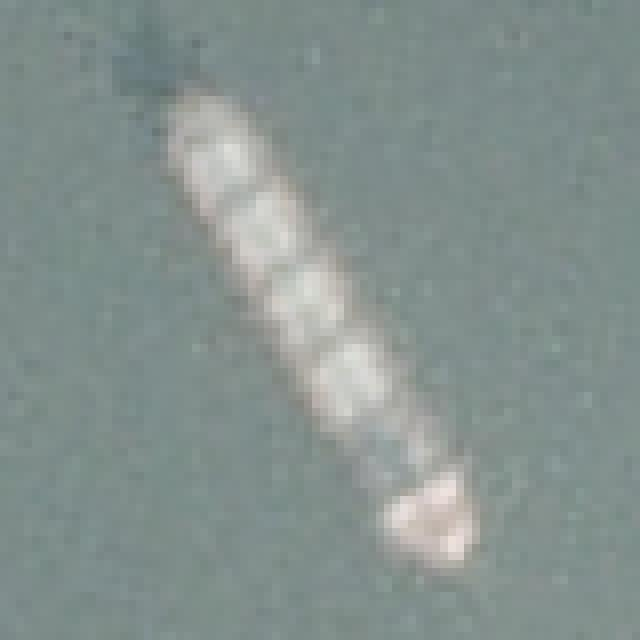ship: (140, 51, 515, 595)
